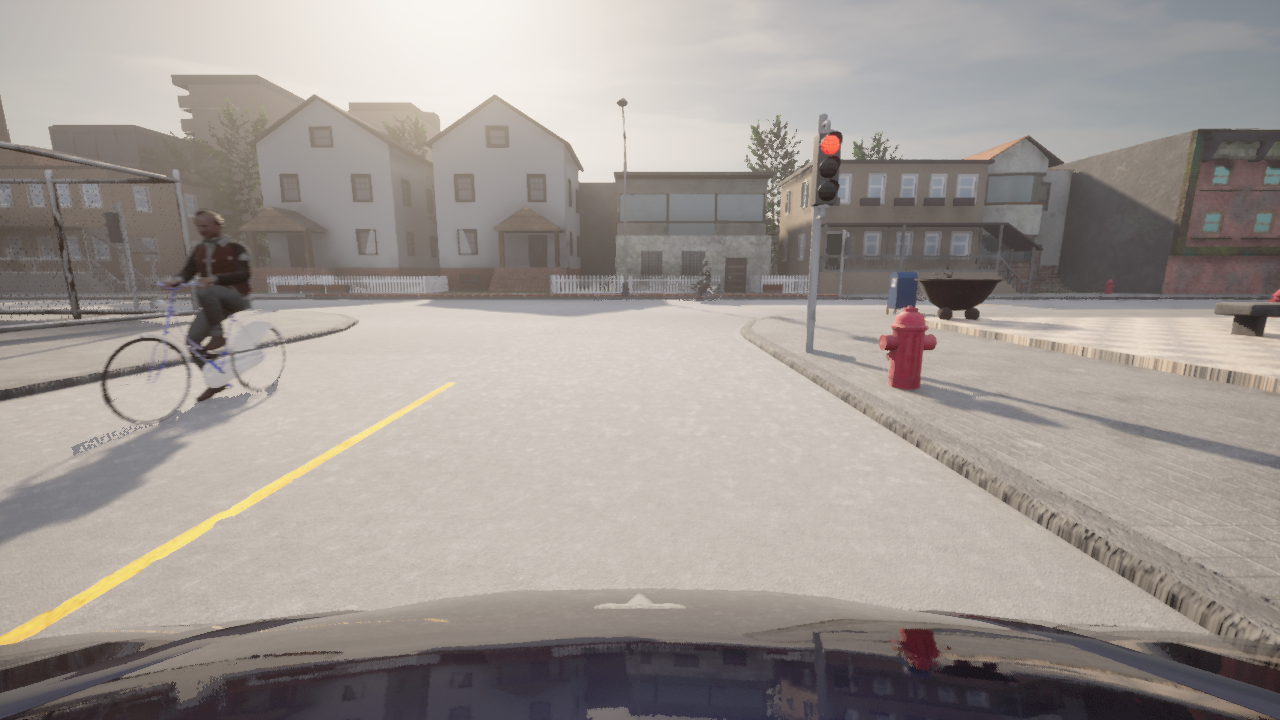cyclist: (0, 588, 1279, 719), (101, 282, 285, 424), (681, 275, 721, 302), (916, 272, 943, 301)
